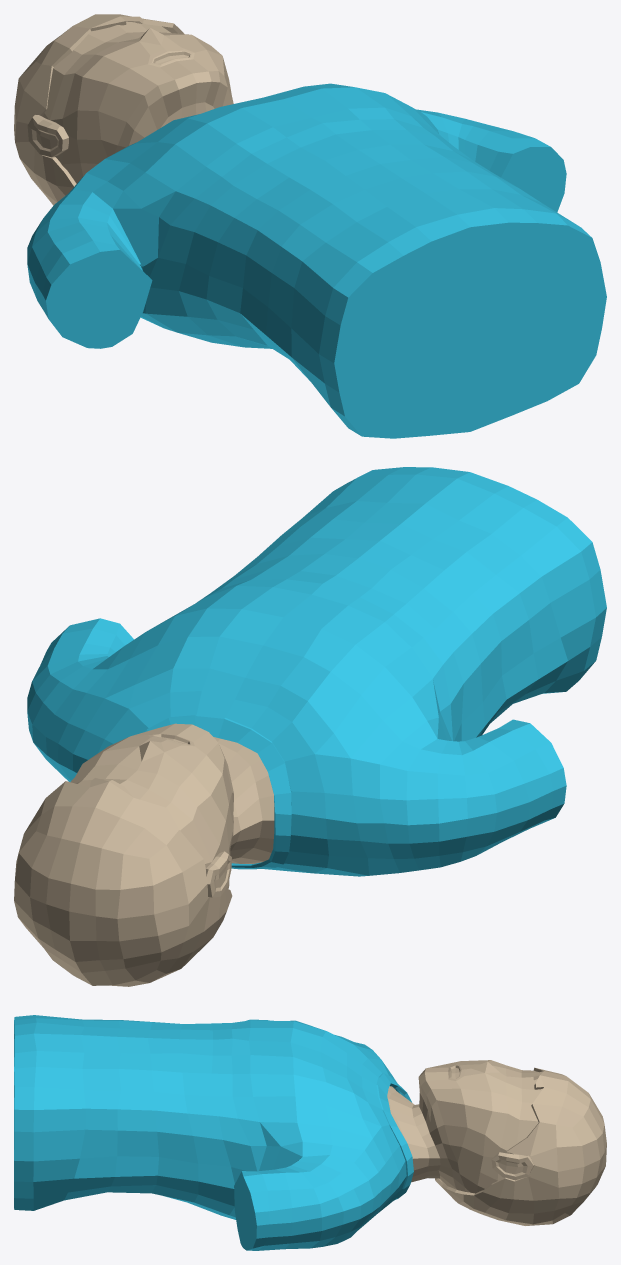
Rendered from Dummy_Apply.fbx.
The picture shows the model from 3 angles, top to bottom: view 1: azimuth 30°, elevation 25°; view 2: azimuth 150°, elevation 25°; view 3: azimuth 270°, elevation 25°; orthographic projection. The views are drawn at different scales.
Visible parts, largest first — view 1: Tshirt.001, Body.001, Hair.001, ear.001; view 2: Tshirt.001, Hair.001, Body.001, ear.001; view 3: Tshirt.001, Body.001, Hair.001, ear.001.
Boxes of the visible parts, left/top/right/bottom form: Tshirt.001: left=27, top=83, right=606, bottom=438; Body.001: left=43, top=21, right=233, bottom=183; Hair.001: left=14, top=14, right=184, bottom=205; ear.001: left=27, top=115, right=68, bottom=157; Tshirt.001: left=27, top=467, right=606, bottom=876; Hair.001: left=14, top=778, right=232, bottom=986; Body.001: left=70, top=723, right=274, bottom=889; ear.001: left=206, top=851, right=231, bottom=897; Tshirt.001: left=14, top=1015, right=413, bottom=1250; Body.001: left=387, top=1060, right=542, bottom=1193; Hair.001: left=435, top=1067, right=606, bottom=1225; ear.001: left=491, top=1152, right=533, bottom=1180.
Size of the model in its own units: 156 by 72.16 by 208.
